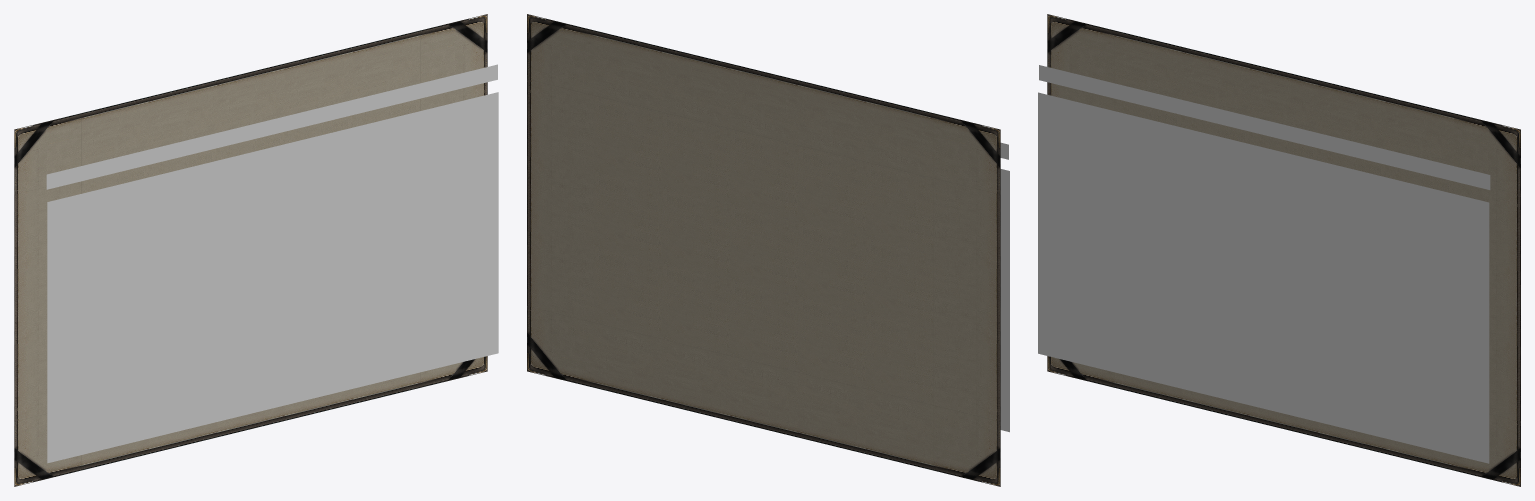
Rendered from InGameInfo.fbx.
3 renders of one model, left to right at view 1: azimuth 30°, elevation 25°; view 2: azimuth 150°, elevation 25°; view 3: azimuth 330°, elevation 25°, orthographic.
Visible parts, largest first — view 1: text, game_info, header; view 2: game_info, text; view 3: text, game_info, header.
Part boxes in pixels (x1=…): text: x1=47, y1=92, x2=498, y2=463; game_info: x1=14, y1=14, x2=487, y2=486; header: x1=46, y1=64, x2=497, y2=189; game_info: x1=527, y1=14, x2=1000, y2=486; text: x1=1000, y1=169, x2=1009, y2=432; text: x1=1038, y1=92, x2=1489, y2=463; game_info: x1=1047, y1=14, x2=1520, y2=486; header: x1=1039, y1=65, x2=1490, y2=189.
Size of the model in its own units: 88.67 by 63.95 by 6.89.
